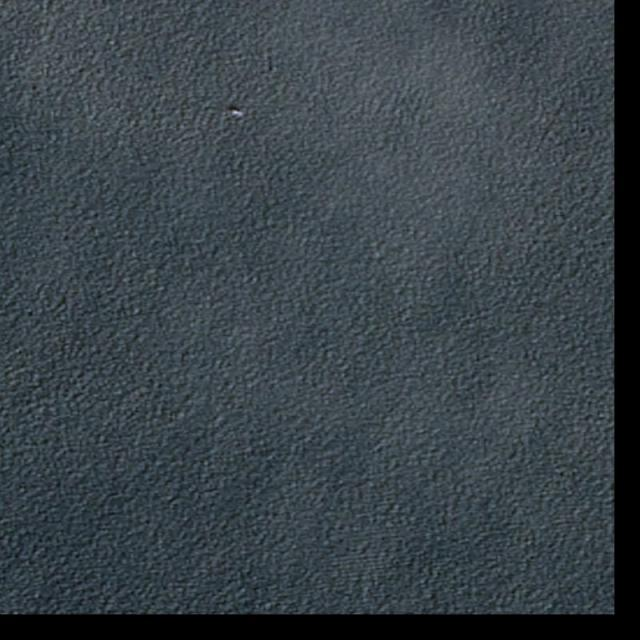ship: (229, 109, 244, 118)
